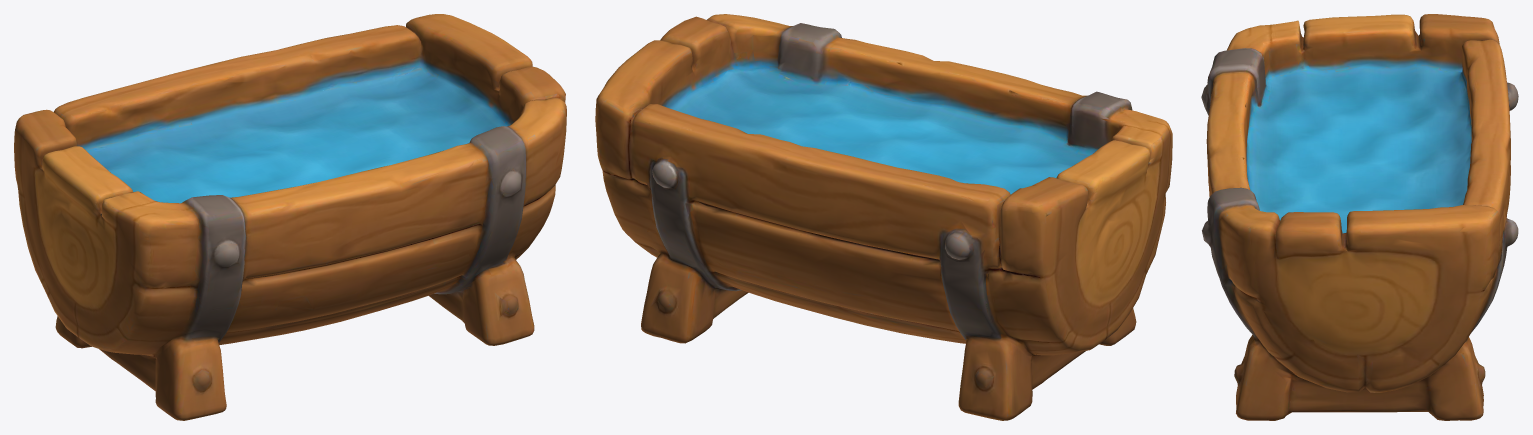
The picture shows the model from 3 angles, left to right: view 1: azimuth 30°, elevation 25°; view 2: azimuth 150°, elevation 25°; view 3: azimuth 270°, elevation 25°; orthographic projection. The views are drawn at different scales.
Parts seen in each view (by area): view 1: water-trough; view 2: water-trough; view 3: water-trough.
Boxes of the visible parts, bbox=[...] form: water-trough: bbox=[14, 14, 566, 420]; water-trough: bbox=[595, 14, 1172, 420]; water-trough: bbox=[1201, 14, 1518, 420].
Bounding box in the file's own units: 1.2 × 0.5596 × 0.7238.
1 material, 1 textured.
